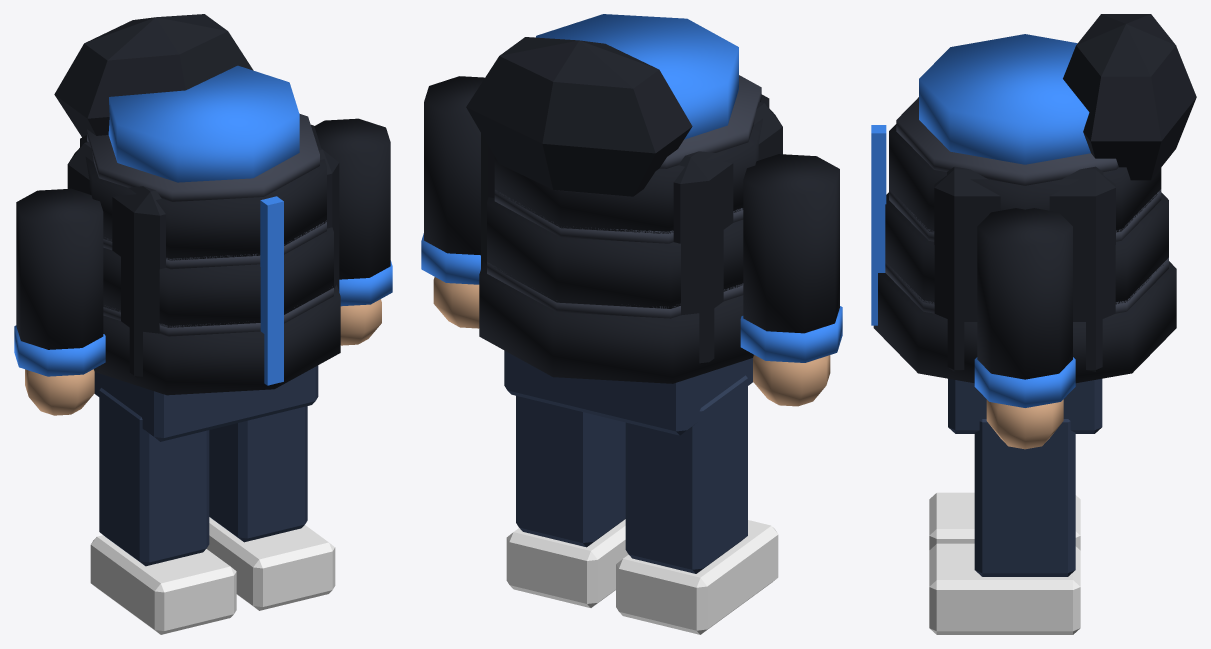
Rendered from goutier.glb.
The picture shows the model from 3 angles, left to right: view 1: azimuth 30°, elevation 25°; view 2: azimuth 150°, elevation 25°; view 3: azimuth 270°, elevation 25°; orthographic projection. The views are drawn at different scales.
Parts seen in each view (by area): view 1: collar, thigh_L, upperarm_L, hood, puff_0, thigh_R, puff_1, puff_2, torso, shoe_L, upperarm_R, shoe_R (+9 smaller); view 2: hood, thigh_L, puff_0, upperarm_L, puff_1, thigh_R, torso, collar, shoe_L, upperarm_R, hips, puff_2 (+8 smaller); view 3: collar, torso, upperarm_R, hood, thigh_R, puff_0, shoe_R, puff_2, puff_1, seam_2, hips, cuff_R (+5 smaller).
Part boxes in pixels (x1,y1,x2,y2): collar: (108,65,299,182); thigh_L: (99,388,209,566); upperarm_L: (16,188,103,349); hood: (54,14,253,137); puff_0: (94,284,340,395); thigh_R: (209,406,307,542); puff_1: (103,227,333,327); puff_2: (80,124,326,260); torso: (67,141,339,378); shoe_L: (90,535,236,634); upperarm_R: (314,118,390,279); shoe_R: (206,517,335,610); hood: (466,37,692,196); thigh_L: (625,375,747,573); puff_0: (479,261,753,383); upperarm_L: (743,154,839,333); puff_1: (487,197,743,308); thigh_R: (516,396,625,547); torso: (481,102,782,364); collar: (535,14,738,139); shoe_L: (616,520,778,634); upperarm_R: (424,76,484,255); hips: (504,350,752,435); puff_2: (494,94,769,233); collar: (919,34,1090,164); torso: (934,166,1115,371); upperarm_R: (977,208,1072,379); hood: (1063,14,1196,180); thigh_R: (974,419,1075,576); puff_0: (873,261,1176,383); shoe_R: (929,543,1080,634); puff_2: (889,124,1161,232); puff_1: (885,192,1168,304); seam_2: (896,97,1118,185); hips: (948,378,1102,433); cuff_R: (974,357,1075,407).
Size of the model in its own units: 0.9 by 1.24 by 0.645.
